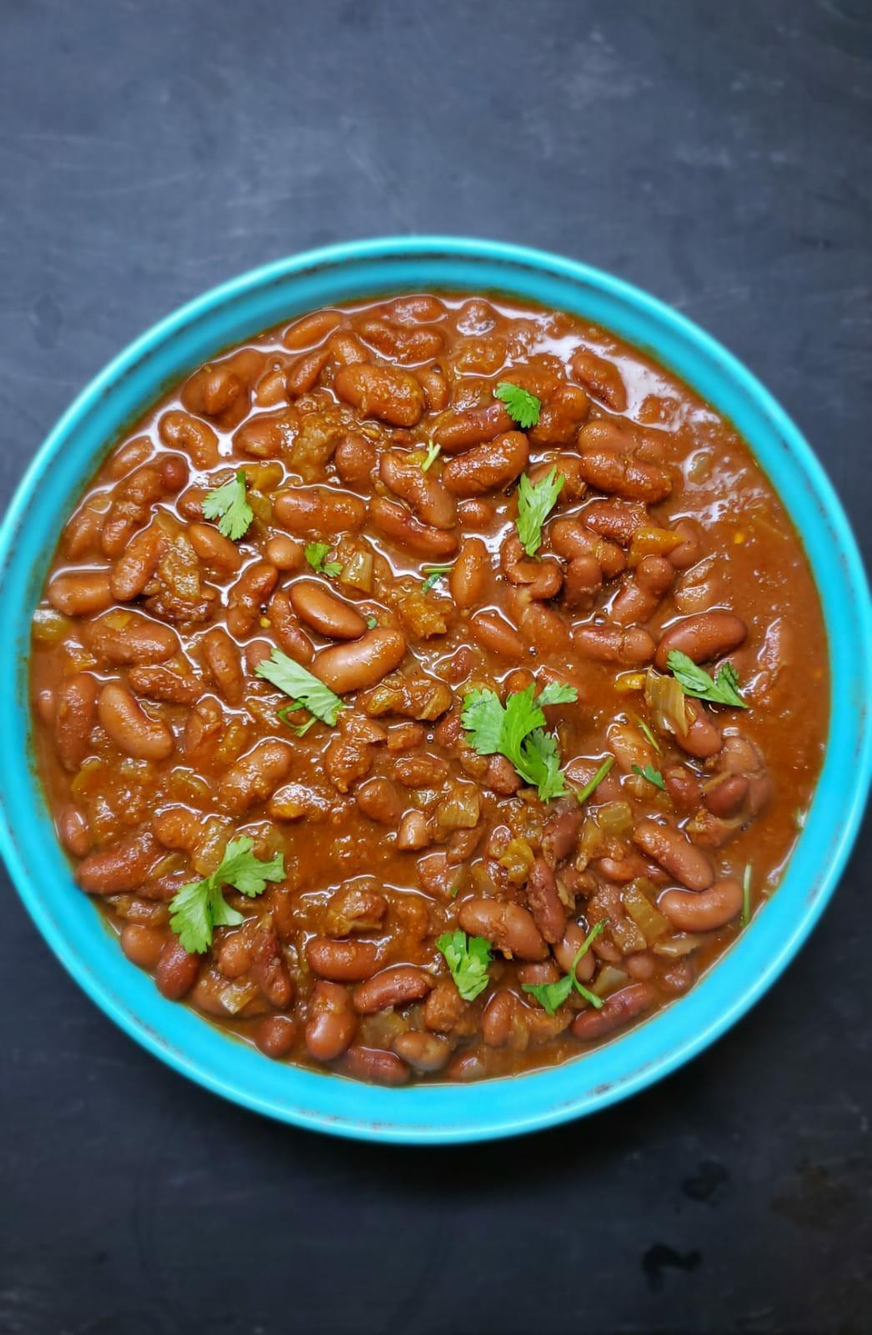RajmaCurry: (22, 300, 826, 1085)
